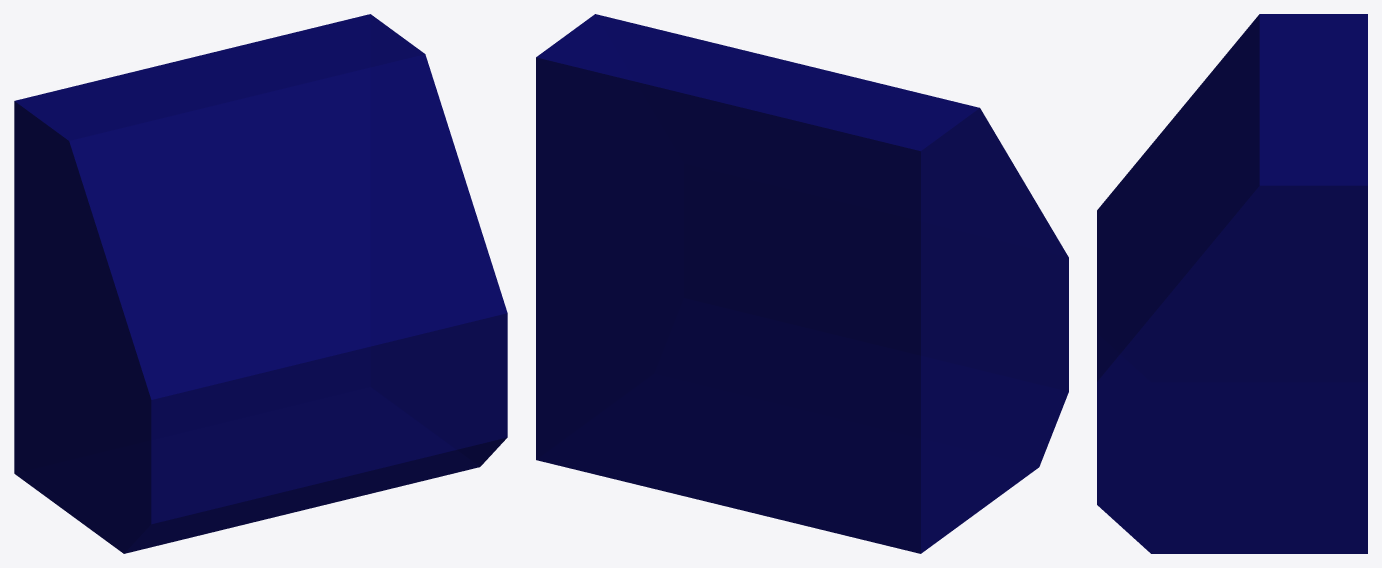
3 renders of one model, left to right at view 1: azimuth 30°, elevation 25°; view 2: azimuth 150°, elevation 25°; view 3: azimuth 270°, elevation 25°, orthographic. The views are drawn at different scales.
Visible parts, largest first — view 1: SketchUp; view 2: SketchUp; view 3: SketchUp.
Boxes of the visible parts, bbox=[...] form: SketchUp: bbox=[14, 14, 507, 553]; SketchUp: bbox=[536, 14, 1068, 553]; SketchUp: bbox=[1097, 14, 1367, 553].
Bounding box in the file's own units: 1181 × 787 × 1181.
